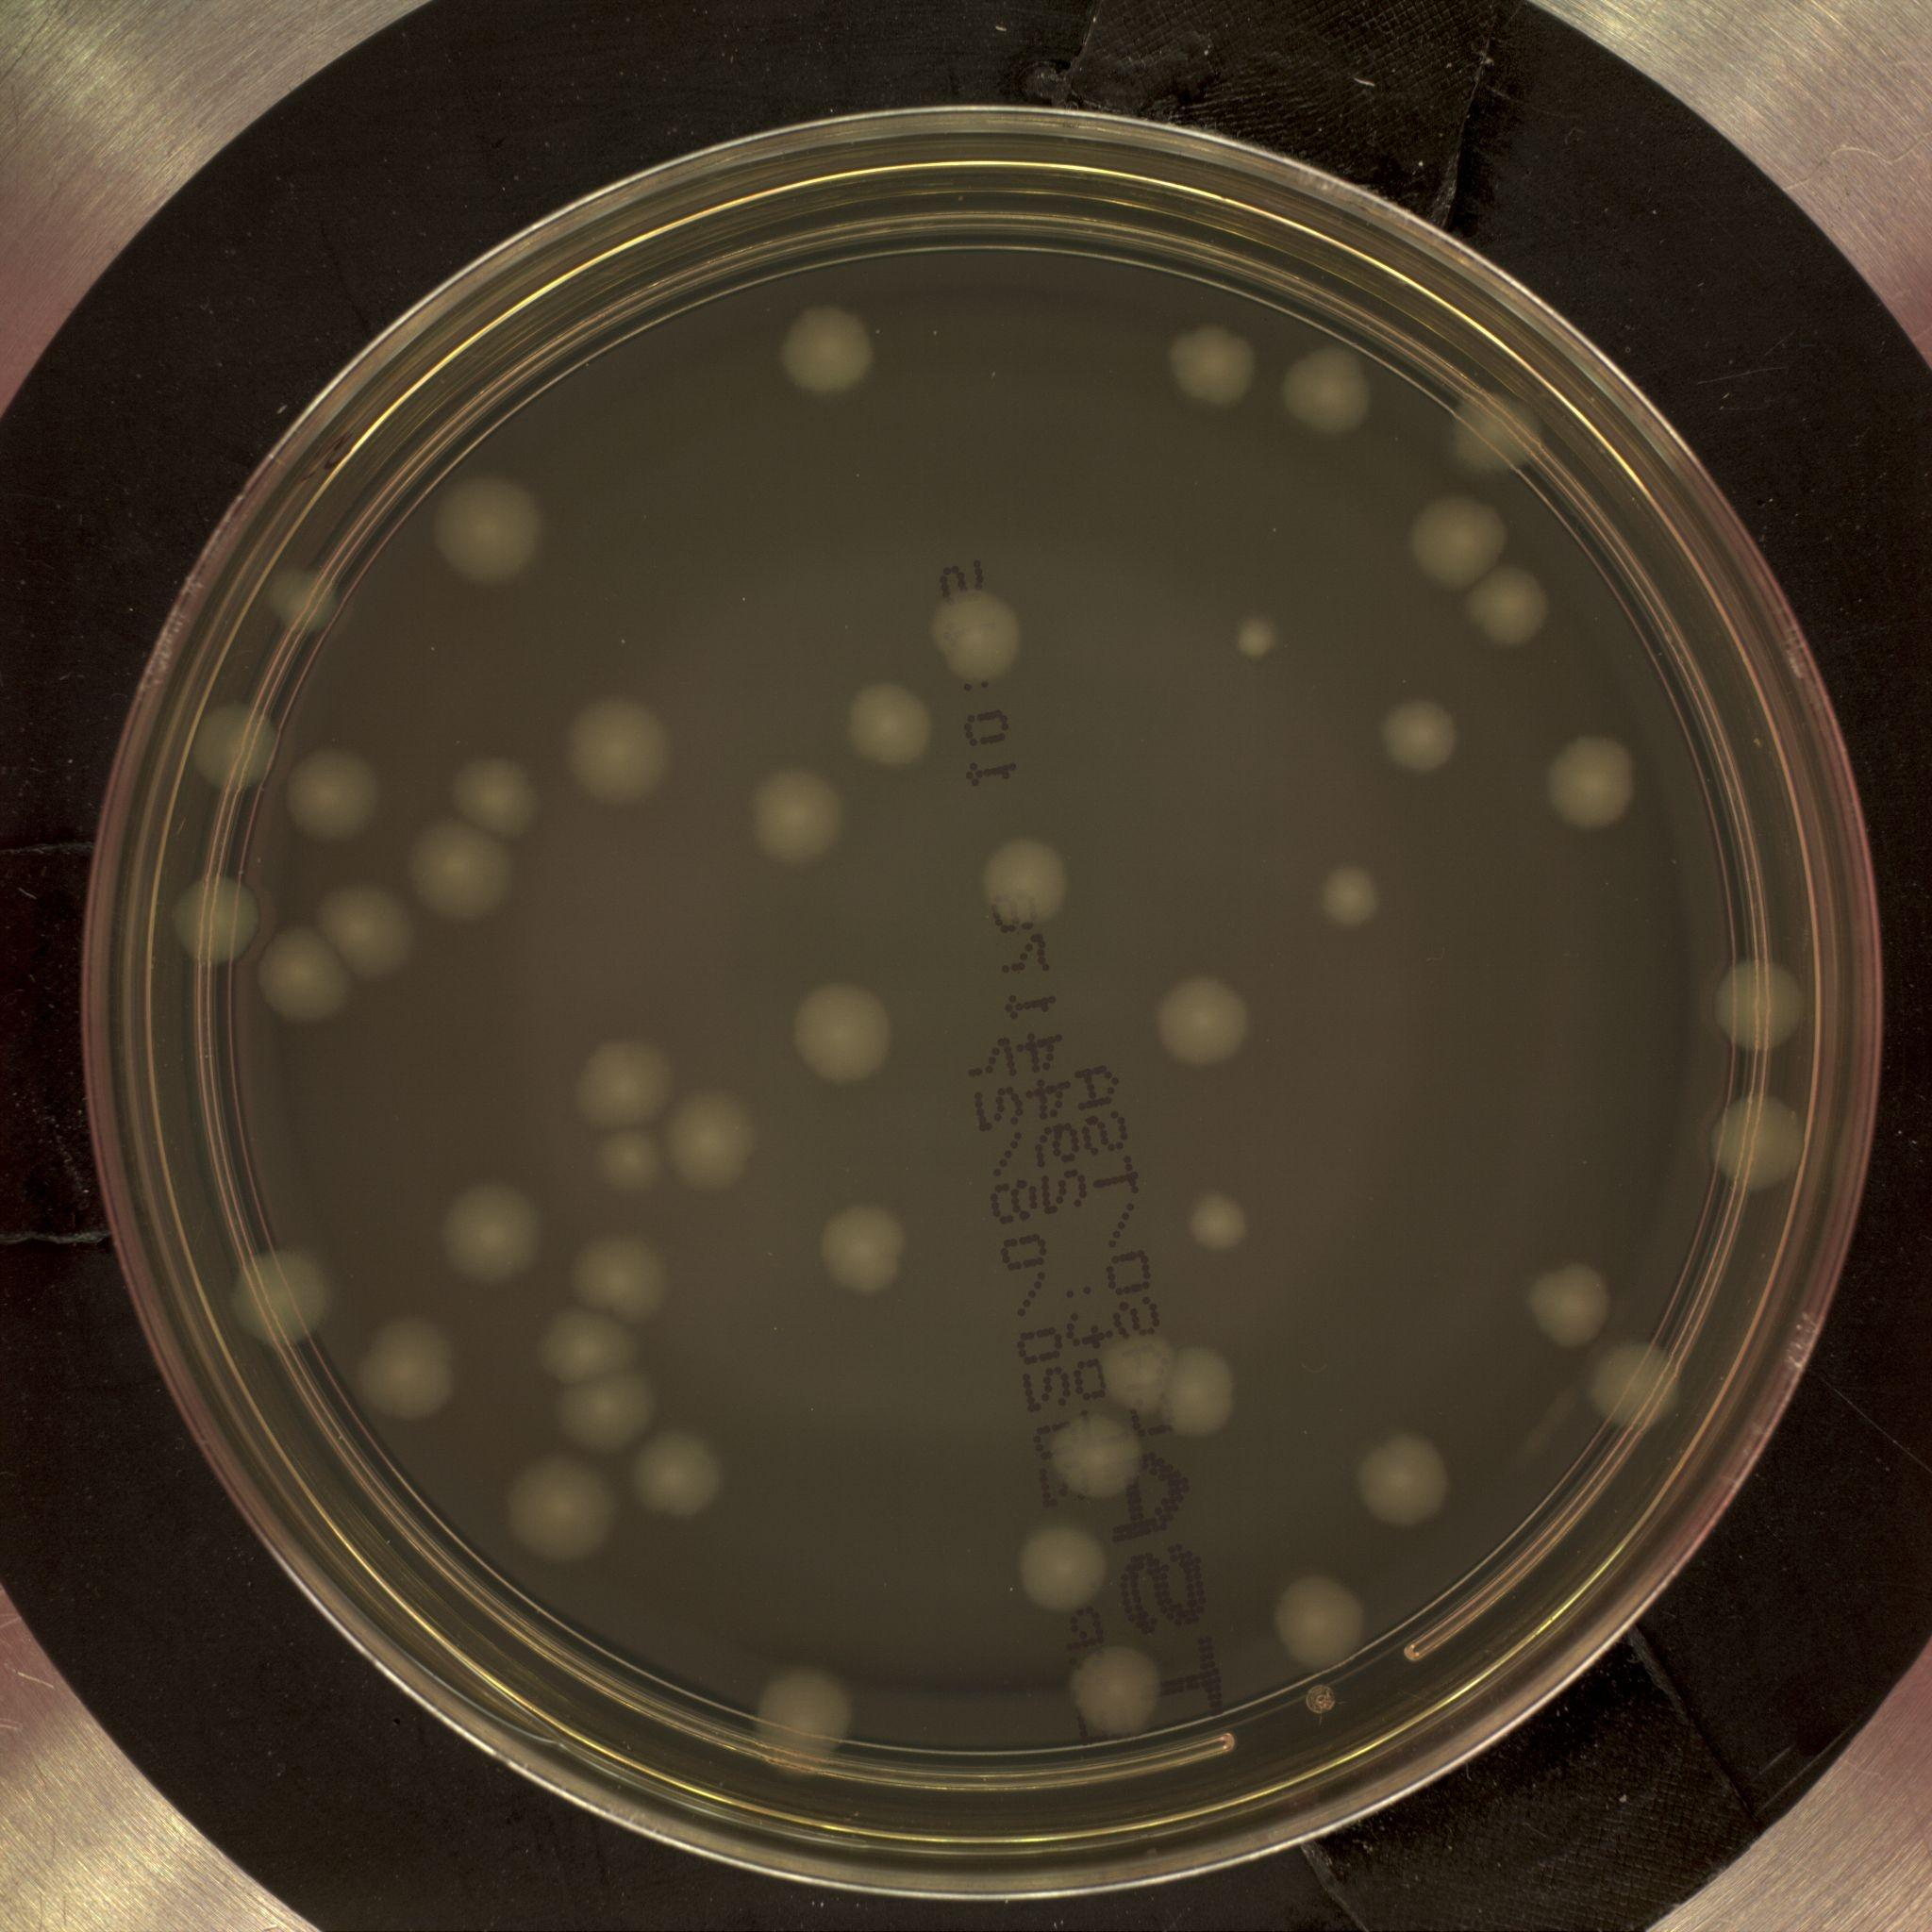e. coli: (512, 1457, 619, 1560), (433, 477, 541, 579), (414, 819, 516, 917), (571, 702, 665, 808), (356, 1315, 456, 1411), (792, 987, 891, 1083), (450, 1187, 548, 1283), (1157, 972, 1254, 1068), (1273, 1574, 1368, 1672), (1071, 1647, 1170, 1741), (750, 1670, 853, 1758), (233, 1251, 327, 1347), (1362, 1432, 1456, 1528), (1412, 496, 1509, 589), (1547, 734, 1639, 832), (576, 1236, 677, 1324), (1285, 343, 1378, 438), (1708, 1094, 1800, 1189), (672, 1092, 761, 1189), (1713, 958, 1807, 1049), (559, 1374, 661, 1457), (754, 768, 845, 858), (576, 1041, 672, 1128), (1464, 566, 1557, 651), (265, 930, 352, 1021), (541, 1315, 640, 1394), (1167, 319, 1255, 408), (823, 1204, 912, 1291), (1021, 1523, 1107, 1613), (1596, 1345, 1688, 1430), (935, 589, 1021, 677), (1054, 1415, 1138, 1506), (290, 751, 375, 840), (845, 687, 941, 764), (324, 883, 407, 972), (784, 309, 874, 389), (1531, 1260, 1609, 1351), (636, 1434, 720, 1517), (1162, 1345, 1239, 1436), (175, 875, 259, 957), (1457, 389, 1542, 468), (990, 841, 1068, 924), (195, 704, 273, 787), (458, 755, 539, 832), (1382, 696, 1458, 772), (269, 564, 341, 634), (1105, 1334, 1174, 1406), (593, 1132, 668, 1194), (1188, 1183, 1249, 1255), (1316, 868, 1379, 923), (1230, 615, 1288, 664)
